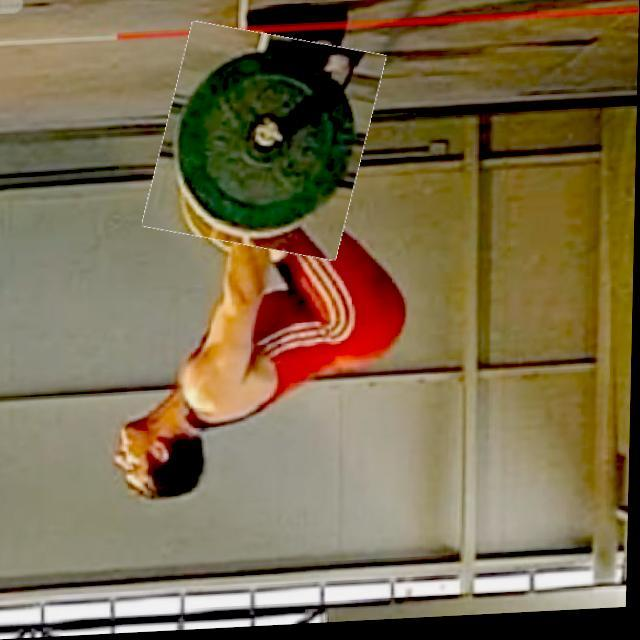barbell: (154, 26, 378, 262)
